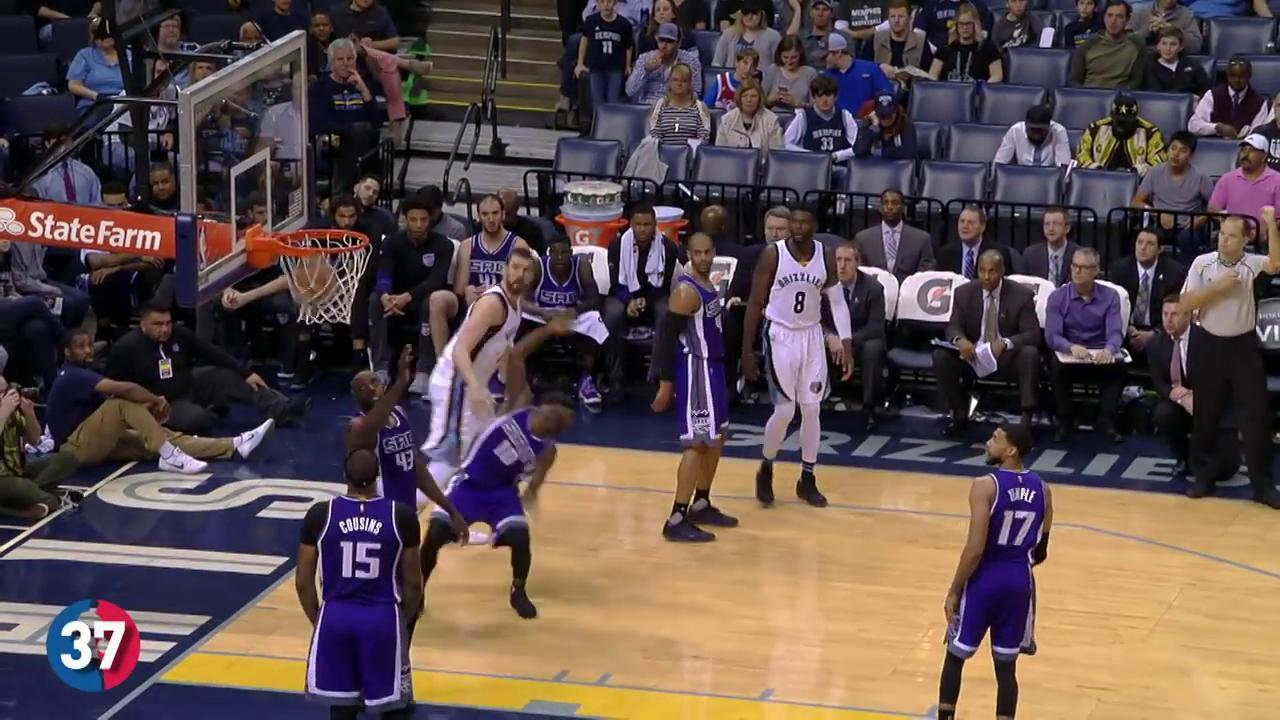ball: (288, 261, 339, 309)
human: (419, 310, 583, 623), (737, 198, 857, 512), (934, 417, 1056, 720), (295, 441, 427, 720), (423, 246, 538, 516), (650, 226, 740, 544), (352, 336, 472, 543)
rim: (274, 226, 374, 330)
